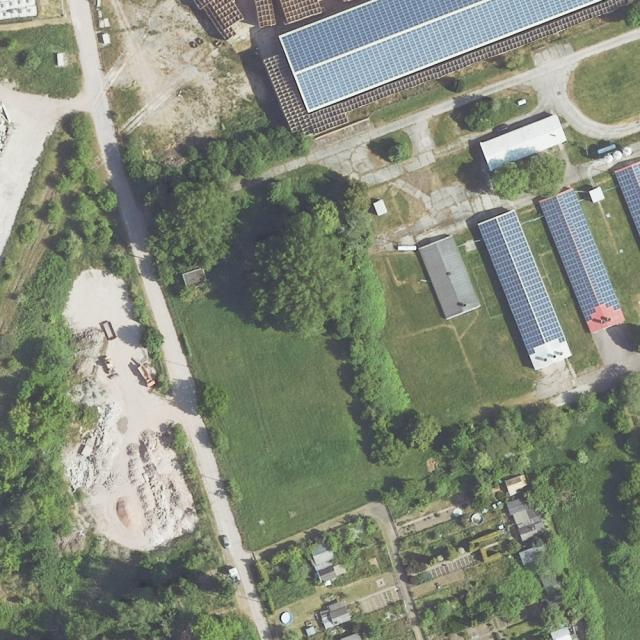PV: (281, 0, 605, 111), (478, 210, 567, 355), (539, 192, 621, 322), (614, 162, 640, 241)
